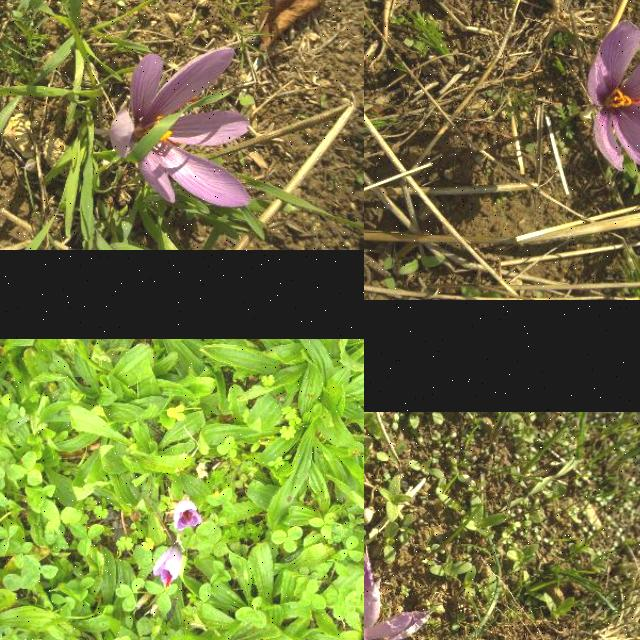flower: (110, 48, 250, 208), (586, 19, 640, 172), (364, 558, 429, 640), (152, 546, 182, 590), (172, 498, 204, 532)
